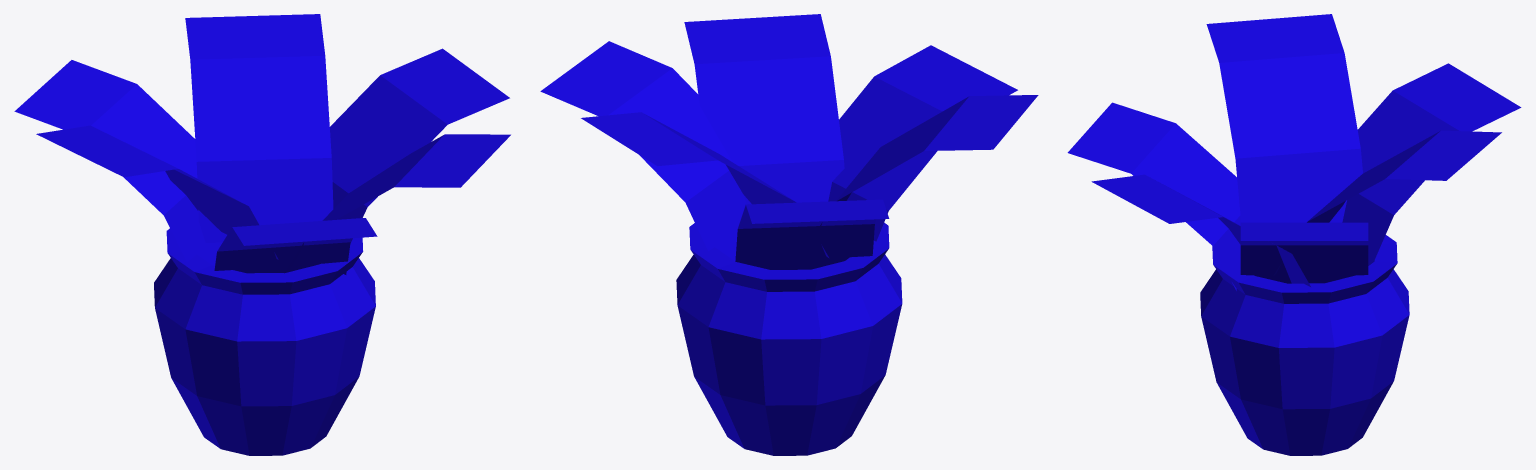
Rendered from Model_Plant_B.fbx.
3 views of the same model, side by side, from view 1: azimuth 30°, elevation 25°; view 2: azimuth 150°, elevation 25°; view 3: azimuth 270°, elevation 25° (orthographic). The views are drawn at different scales.
Visible parts, largest first — view 1: Plane.003; view 2: Plane.003; view 3: Plane.003.
Part boxes in pixels (<box>): Plane.003: <box>14,14,510,455</box>; Plane.003: <box>540,14,1038,455</box>; Plane.003: <box>1067,14,1521,455</box>.
Size of the model in its own units: 505 by 382 by 494.
